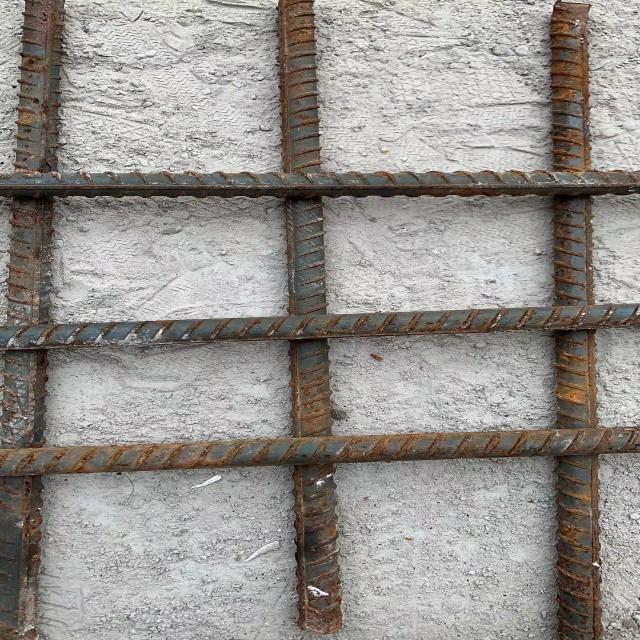ribbed bar: (275, 0, 343, 633), (0, 0, 66, 639), (545, 0, 605, 639), (0, 426, 639, 478), (0, 304, 639, 349), (0, 168, 639, 198)
